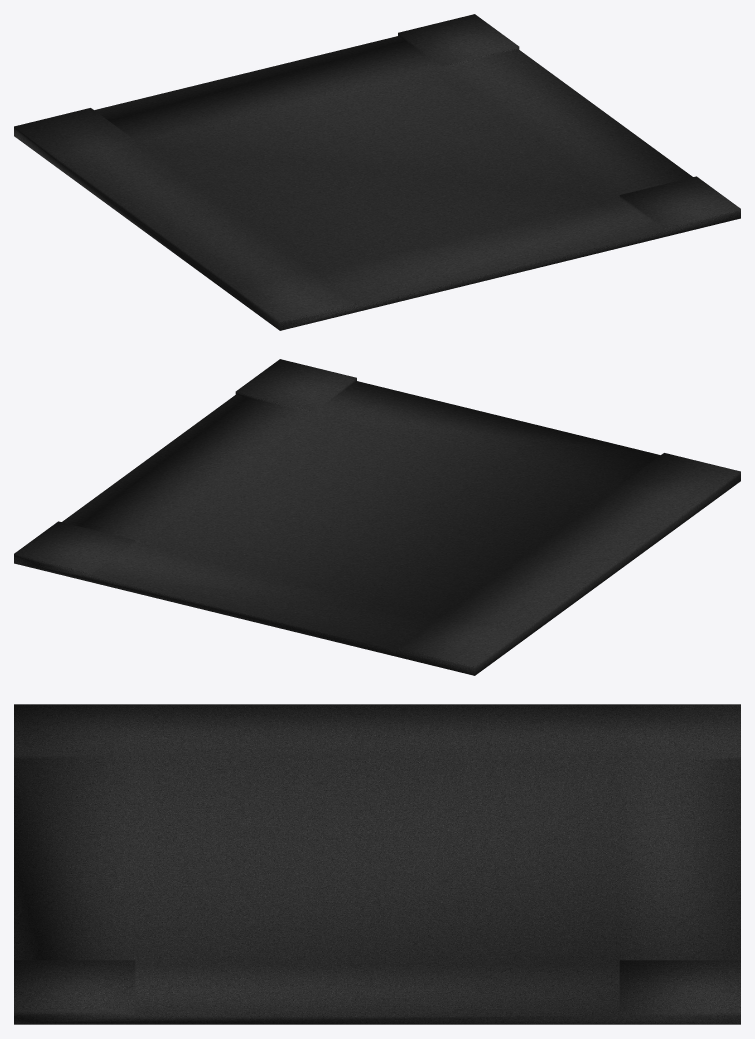
Rendered from ROAD_15x15_3_cross.obj.
The picture shows the model from 3 angles, top to bottom: view 1: azimuth 30°, elevation 25°; view 2: azimuth 150°, elevation 25°; view 3: azimuth 270°, elevation 25°; orthographic projection. The views are drawn at different scales.
Visible parts, largest first — view 1: grid1_grid1_auv; view 2: grid1_grid1_auv; view 3: grid1_grid1_auv.
Boxes of the visible parts, x1,y1,x2,y2 form: grid1_grid1_auv: (14, 14, 740, 330); grid1_grid1_auv: (14, 359, 740, 675); grid1_grid1_auv: (14, 704, 740, 1024).
Bounding box in the file's own units: 15 × 0.3 × 15.
